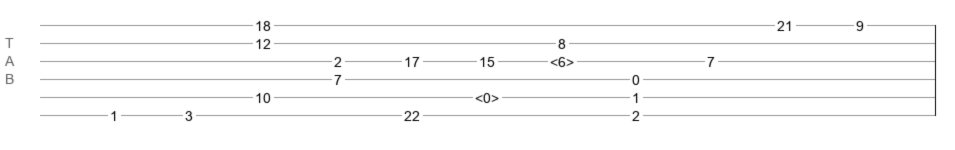0: (632, 72, 640, 82)
1: (110, 108, 118, 118), (632, 90, 640, 100)
10: (255, 90, 271, 100)
12: (255, 36, 271, 46)
15: (479, 54, 495, 64)
17: (404, 54, 420, 64)
18: (255, 18, 271, 28)
2: (334, 54, 342, 64), (632, 108, 640, 118)
21: (777, 18, 793, 28)
22: (404, 108, 420, 118)
3: (185, 108, 193, 118)
7: (334, 72, 342, 82), (707, 54, 715, 64)
8: (558, 36, 566, 46)
9: (856, 18, 864, 28)
harmonic: (475, 90, 499, 100), (550, 54, 574, 64)
